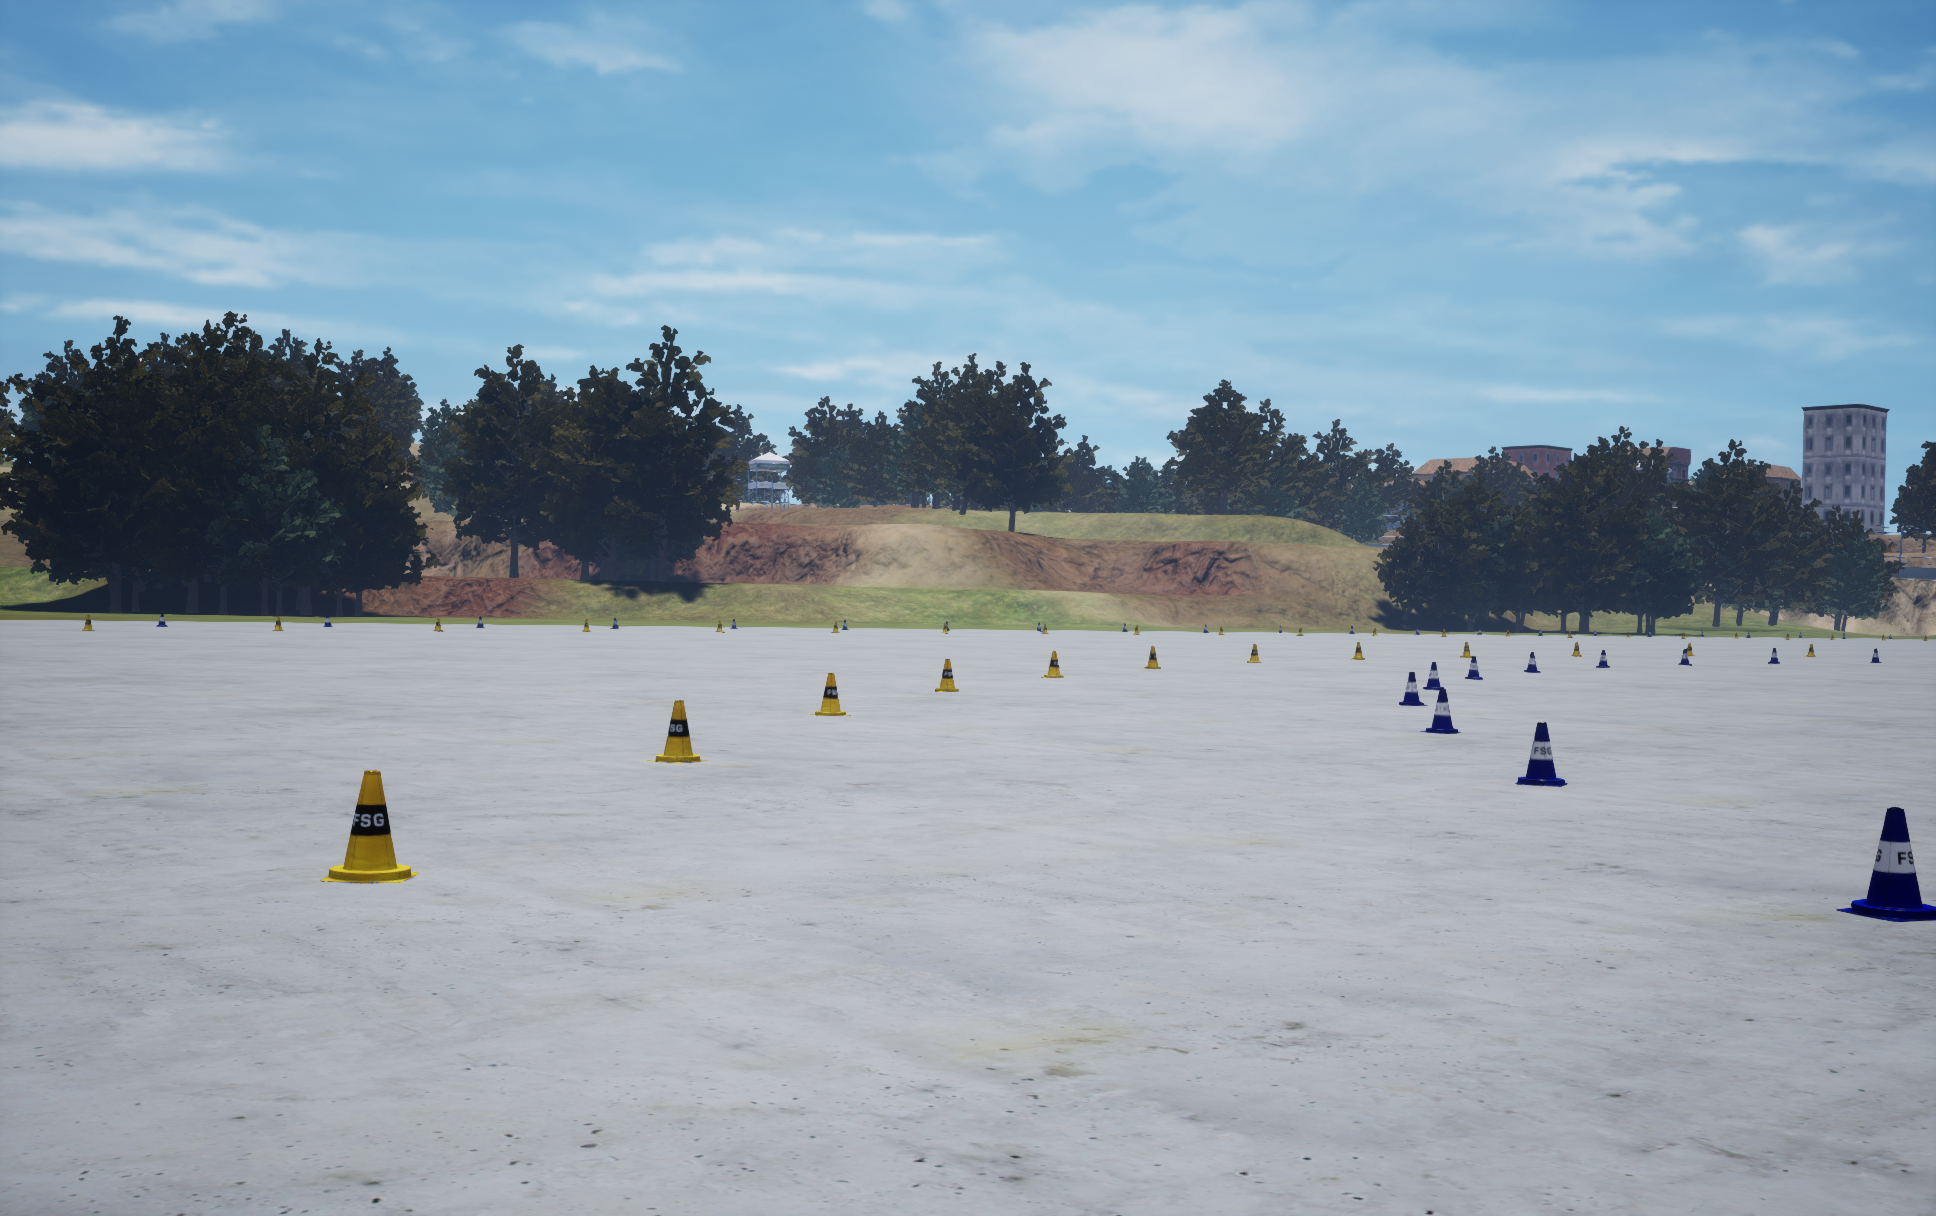blue: (319, 771, 419, 883), (647, 700, 707, 762), (810, 672, 850, 714), (934, 658, 958, 691), (1041, 651, 1063, 677), (1145, 646, 1160, 668), (1247, 644, 1261, 663)
yellow: (1837, 807, 1935, 920), (1514, 721, 1568, 786), (1420, 689, 1460, 733), (1399, 672, 1427, 705), (1423, 663, 1446, 689), (1465, 656, 1482, 679), (1524, 651, 1540, 672)
